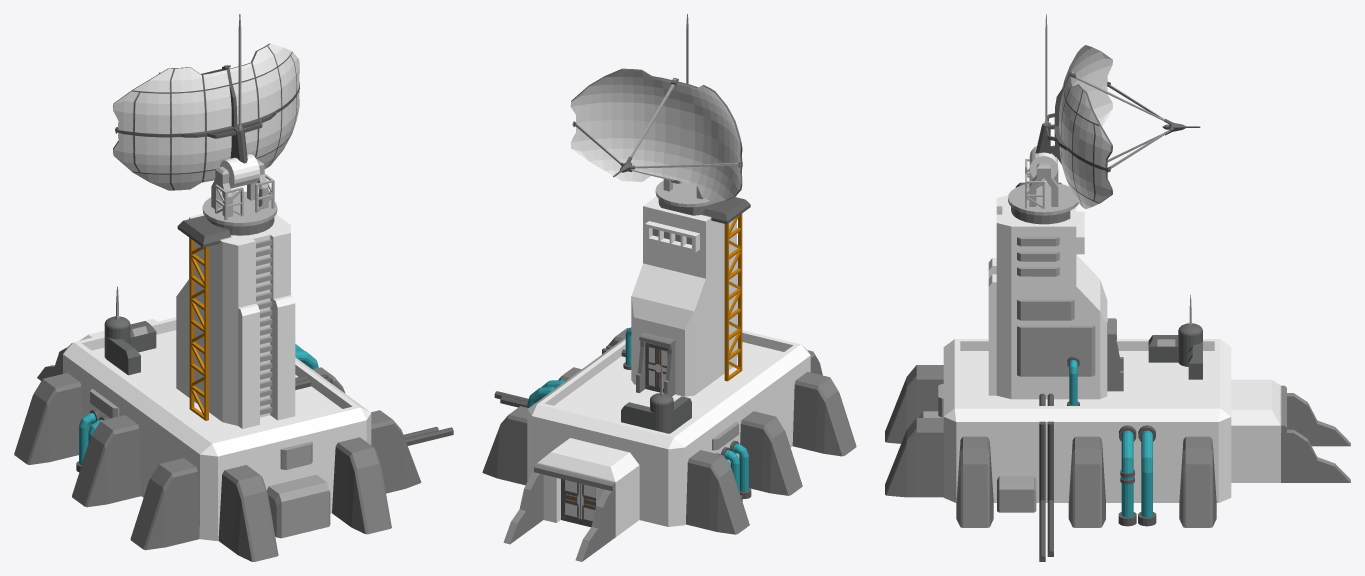
File: Radar_building.fbx
3 renders of one model, left to right at view 1: azimuth 30°, elevation 25°; view 2: azimuth 150°, elevation 25°; view 3: azimuth 270°, elevation 25°, orthographic. The views are drawn at different scales.
Visible parts, largest first — view 1: Radar, polySurface321; view 2: Radar, polySurface321; view 3: Radar, polySurface321.
Part boxes in pixels (x1,y1,x2,y2): Radar: [14, 158, 453, 561]; polySurface321: [113, 14, 299, 190]; Radar: [482, 179, 856, 561]; polySurface321: [570, 14, 742, 203]; Radar: [885, 159, 1350, 561]; polySurface321: [1029, 14, 1200, 209].
Bounding box in the file's own units: 114 × 148 × 137.
Materials: 5 (3 with a texture image).
